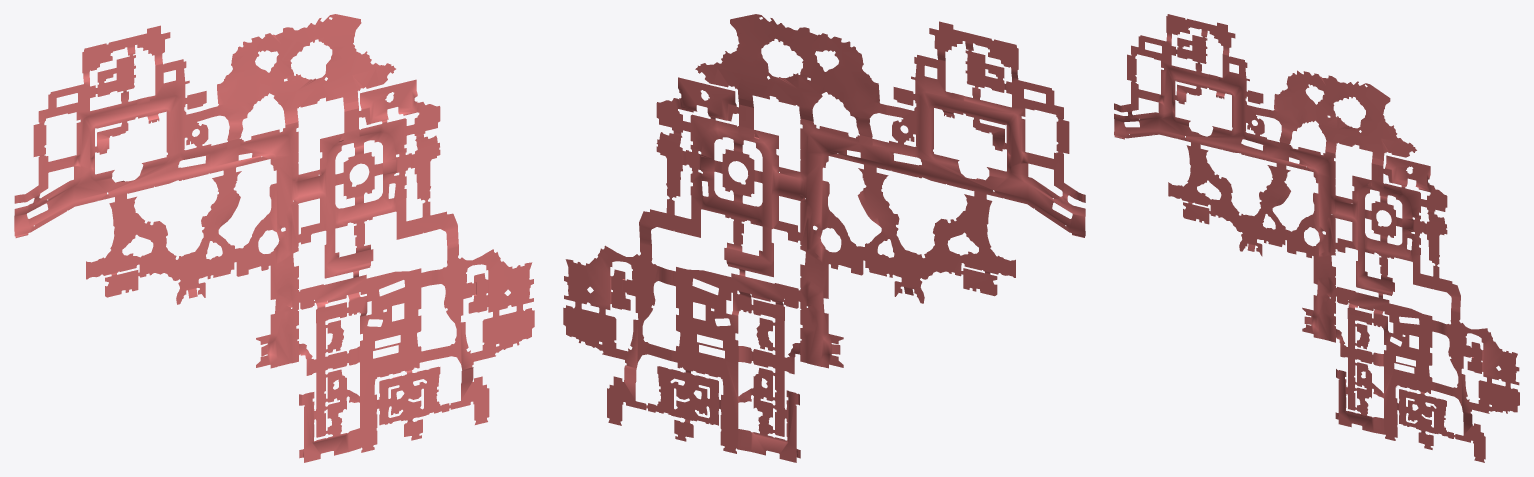
File: Navi_Mesh_Result02.fbx
The picture shows the model from 3 angles, left to right: view 1: azimuth 30°, elevation 25°; view 2: azimuth 150°, elevation 25°; view 3: azimuth 330°, elevation 25°; orthographic projection. The views are drawn at different scales.
Parts seen in each view (by area): view 1: Uptown, School, Forest, Hotel, Sandy_Beach, Archery; view 2: School, Uptown, Forest, Hotel, Sandy_Beach, Archery; view 3: School, Uptown, Forest, Hotel, Sandy_Beach, Archery.
Part boxes in pixels (left/top/right/bottom): Uptown: left=14, top=25, right=213, bottom=237; School: left=299, top=268, right=451, bottom=462; Forest: left=86, top=154, right=298, bottom=368; Hotel: left=298, top=79, right=458, bottom=278; Sandy_Beach: left=213, top=14, right=395, bottom=172; Archery: left=424, top=247, right=534, bottom=424; School: left=644, top=267, right=800, bottom=462; Uptown: left=885, top=21, right=1085, bottom=237; Forest: left=800, top=151, right=1015, bottom=368; Hotel: left=639, top=77, right=800, bottom=277; Sandy_Beach: left=695, top=14, right=886, bottom=169; Archery: left=563, top=243, right=673, bottom=425; School: left=1335, top=287, right=1456, bottom=449; Uptown: left=1114, top=14, right=1269, bottom=161; Forest: left=1168, top=144, right=1335, bottom=342; Hotel: left=1335, top=155, right=1460, bottom=313; Sandy_Beach: left=1269, top=70, right=1416, bottom=178; Archery: left=1434, top=311, right=1519, bottom=462.
Size of the model in its own units: 2.19 by 1.92 by 0.0361.
